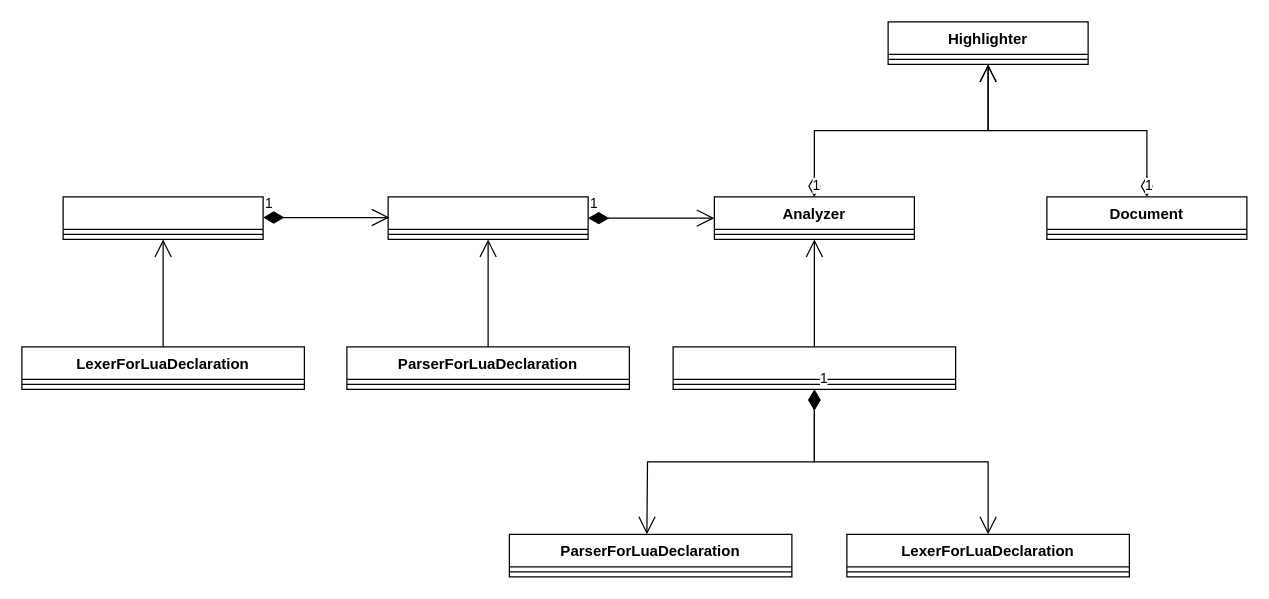
Image size: 1269x599. Some labels were removed from this diagram. Here are the shapes that lost their labels. From the top down, the centre of each, then its label:
the point at 162,217: Lexer
the point at 487,217: Parser
the point at 814,367: AnalyzerForLuaDeclaration
